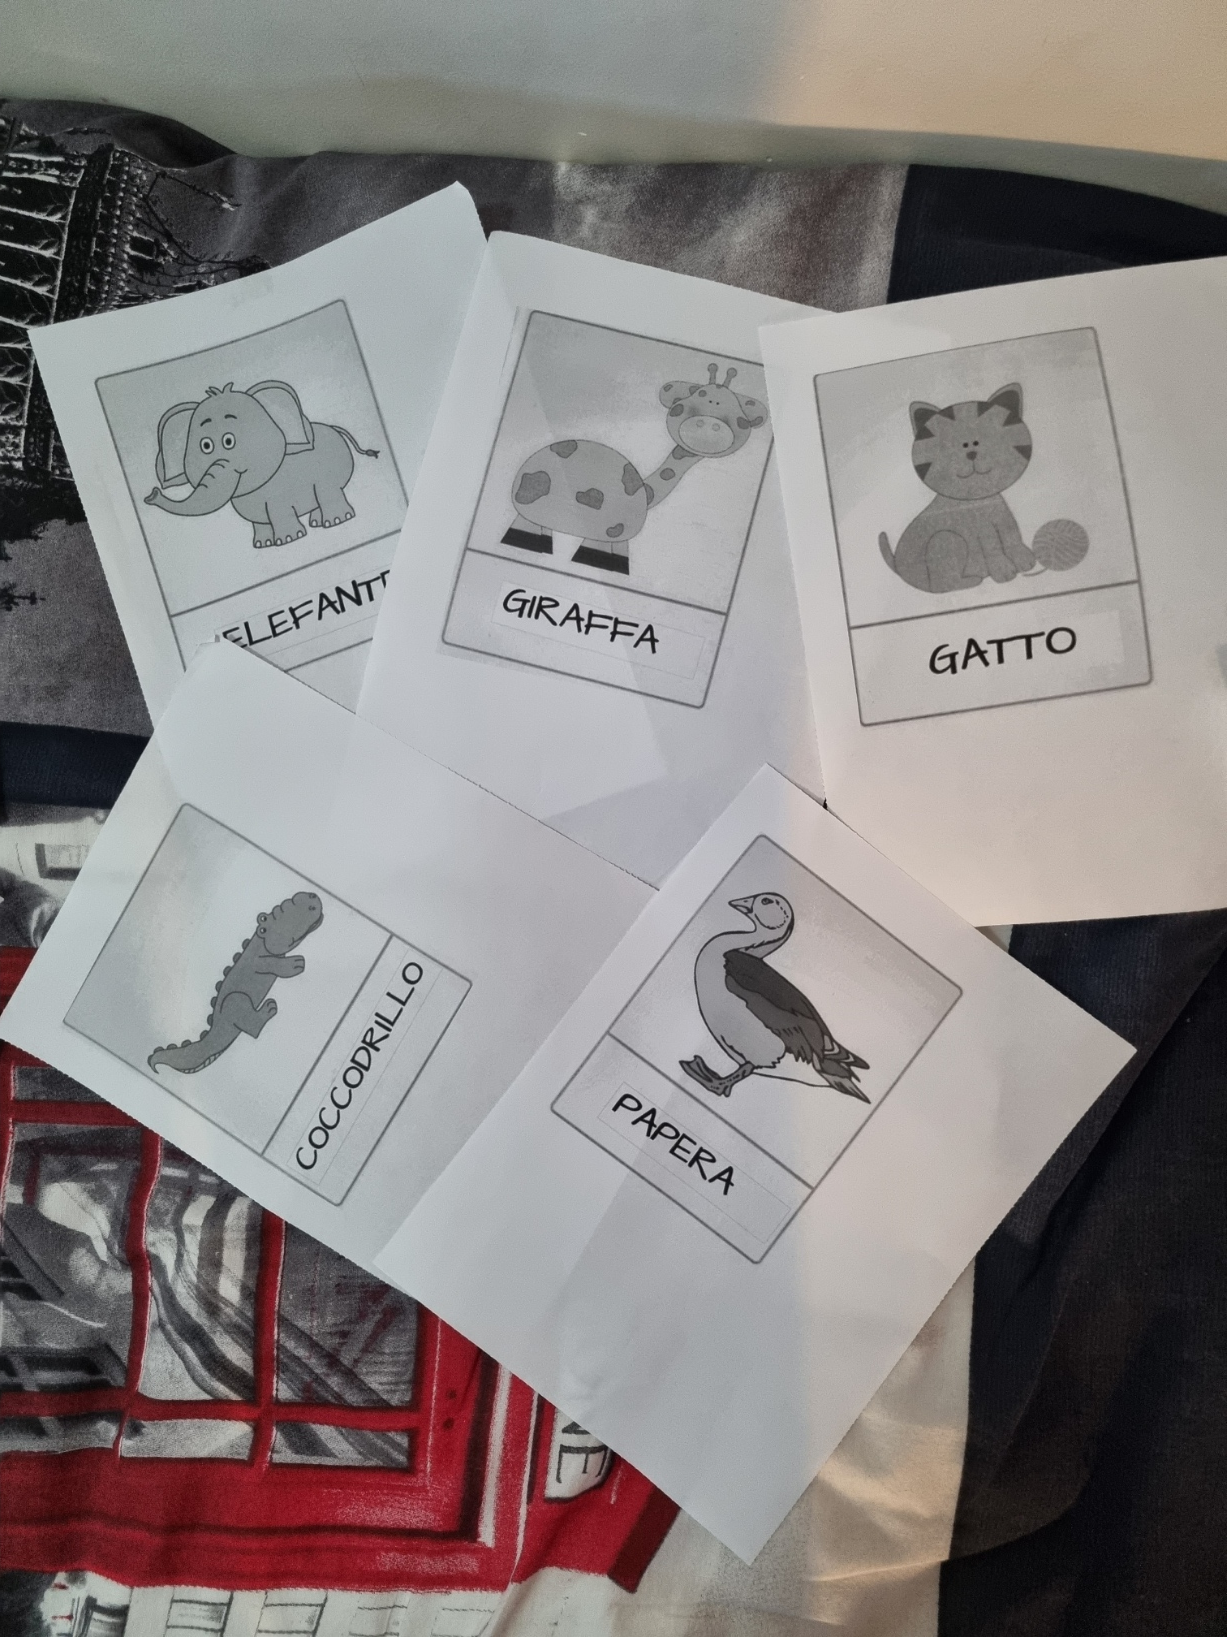coccodrillo: (111, 870, 430, 1174)
elefante: (96, 348, 415, 682)
gatto: (828, 358, 1135, 699)
giraffa: (489, 306, 769, 694)
papera: (586, 874, 879, 1199)
